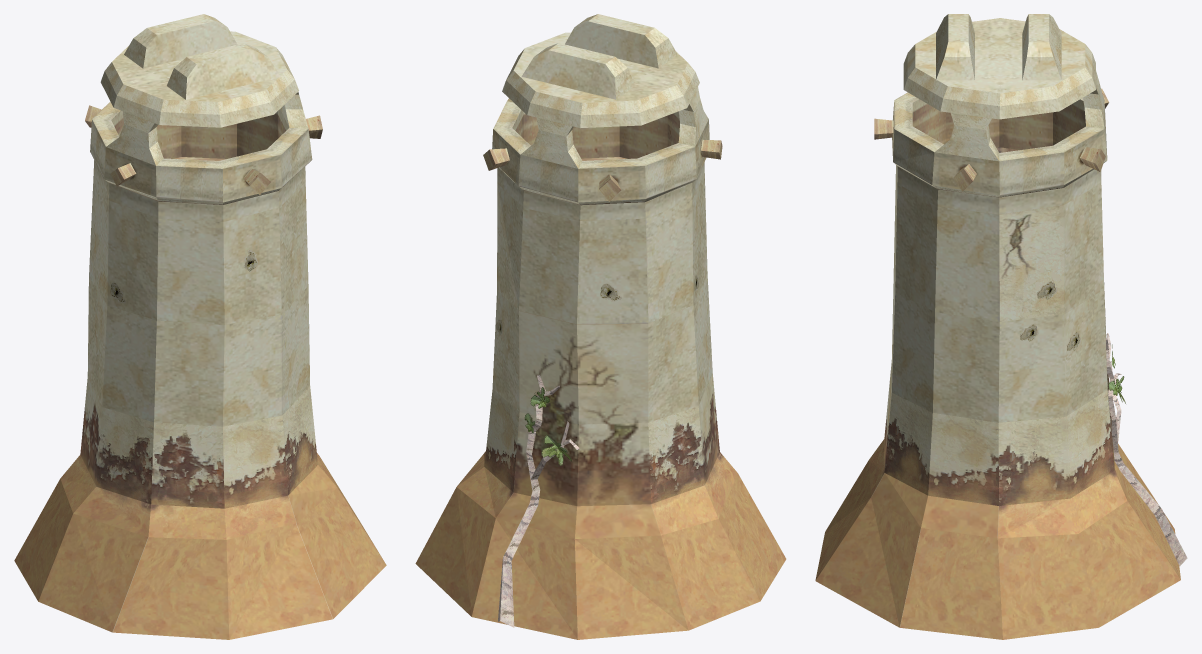
Rendered from C2SMTHH_LIT_H.obj.
3 renders of one model, left to right at view 1: azimuth 30°, elevation 25°; view 2: azimuth 150°, elevation 25°; view 3: azimuth 270°, elevation 25°, orthographic.
Visible parts, largest first — view 1: Node 0; view 2: Node 0; view 3: Node 0.
Boxes of the visible parts, left/top/right/bottom form: Node 0: left=14, top=14, right=386, bottom=639; Node 0: left=415, top=14, right=786, bottom=639; Node 0: left=815, top=14, right=1187, bottom=639.
Bounding box in the file's own units: 12.07 × 18.78 × 11.88.
Materials: 5 (5 with a texture image).
